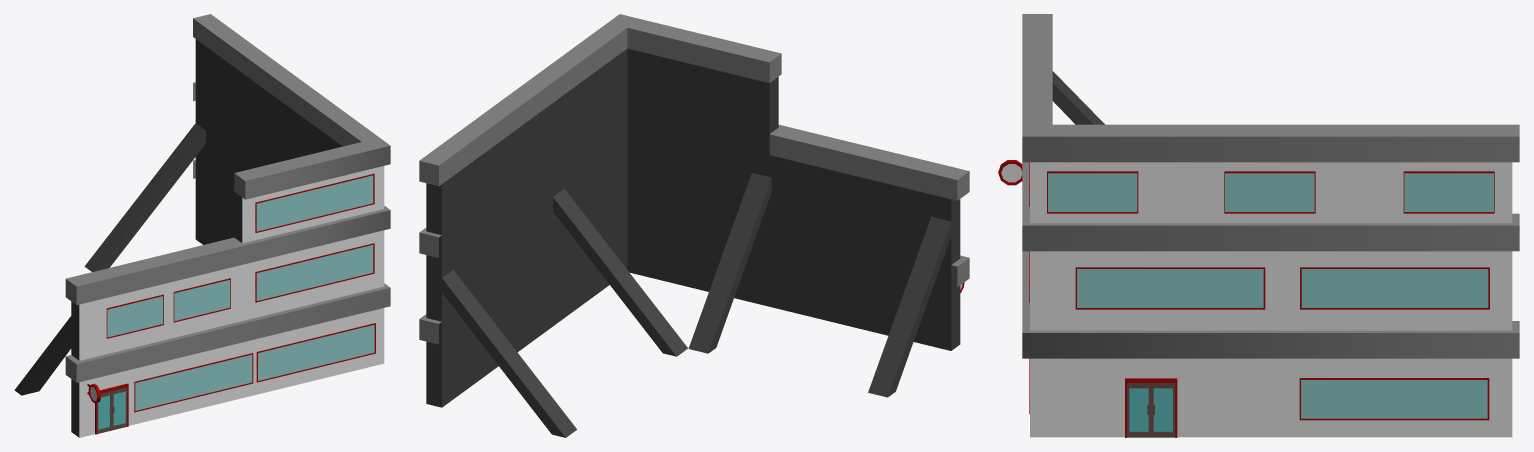
The model's file is Prop_BuildingFake3Story_Mod_01.fbx.
The picture shows the model from 3 angles, left to right: view 1: azimuth 30°, elevation 25°; view 2: azimuth 150°, elevation 25°; view 3: azimuth 270°, elevation 25°; orthographic projection. The views are drawn at different scales.
Parts seen in each view (by area): view 1: FakeBuilding1, Window7, Window9, Window8, Window, Support, Window11, Window10, Support3, Door49, Door48; view 2: FakeBuilding1, Support3, Support2, Support1, Support; view 3: FakeBuilding1, Window5, Window6, Window4, Window1, Window2, Window3, DoorRight13, DoorLeft11, Support3, polySurface7, Sign10.
Boxes of the visible parts, x1,y1,x2,y2 form: FakeBuilding1: [65, 14, 390, 437]; Window7: [255, 173, 374, 232]; Window9: [256, 323, 375, 382]; Window8: [255, 243, 374, 302]; Window: [134, 353, 253, 412]; Support: [84, 123, 205, 271]; Window11: [106, 294, 163, 338]; Window10: [173, 278, 230, 322]; Support3: [14, 316, 71, 395]; Door49: [112, 387, 127, 430]; Door48: [97, 391, 111, 433]; FakeBuilding1: [419, 14, 969, 407]; Support3: [868, 216, 951, 397]; Support2: [688, 173, 771, 353]; Support1: [553, 188, 687, 356]; Support: [442, 270, 576, 437]; FakeBuilding1: [1022, 14, 1519, 437]; Window5: [1075, 267, 1265, 309]; Window6: [1299, 378, 1489, 420]; Window4: [1300, 267, 1489, 309]; Window1: [1403, 171, 1494, 213]; Window2: [1224, 171, 1315, 213]; Window3: [1047, 171, 1138, 213]; DoorRight13: [1151, 383, 1175, 437]; DoorLeft11: [1127, 383, 1151, 437]; Support3: [1052, 71, 1104, 124]; polySurface7: [1125, 378, 1177, 437]; Sign10: [998, 160, 1022, 185].
Bounding box in the file's own units: 17.67 × 11.79 × 18.38.
